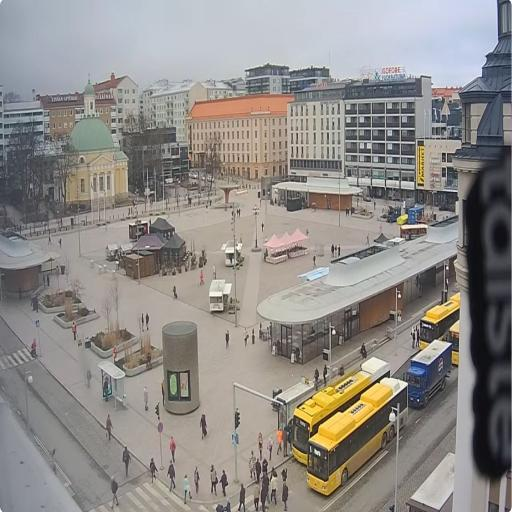bus: (305, 374, 409, 498), (287, 356, 392, 468), (418, 290, 460, 353), (446, 318, 461, 370)
car: (362, 192, 372, 202), (206, 174, 216, 184), (190, 170, 197, 180), (202, 173, 207, 181)
delivery: (403, 338, 454, 410)
